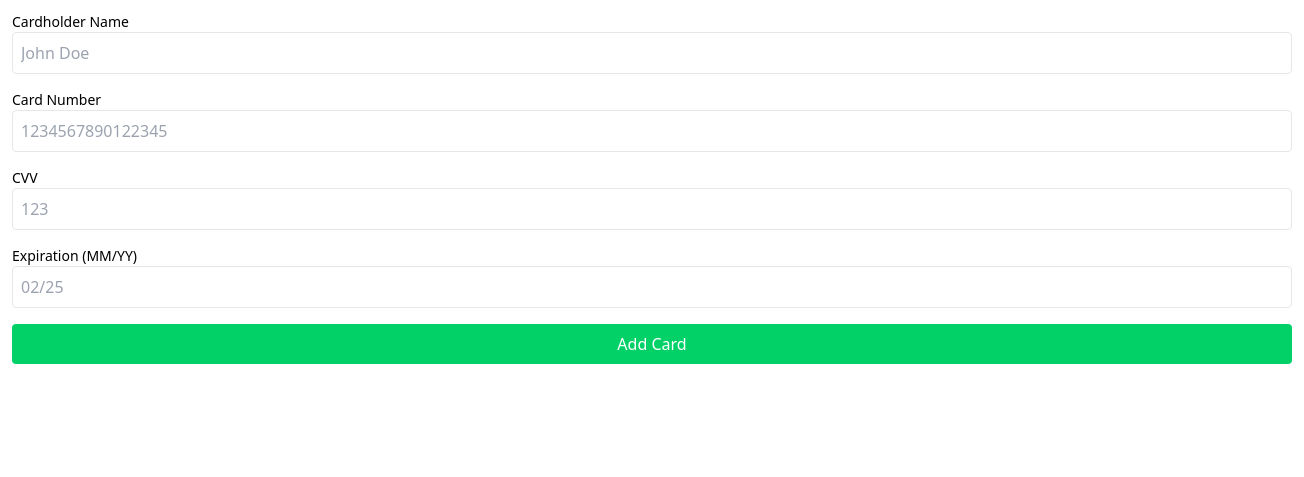
Scenario: AddCardForm component › shows validation errors on empty form submission
Click the button "Add Card" at [652, 344], box [12, 324, 1292, 364]
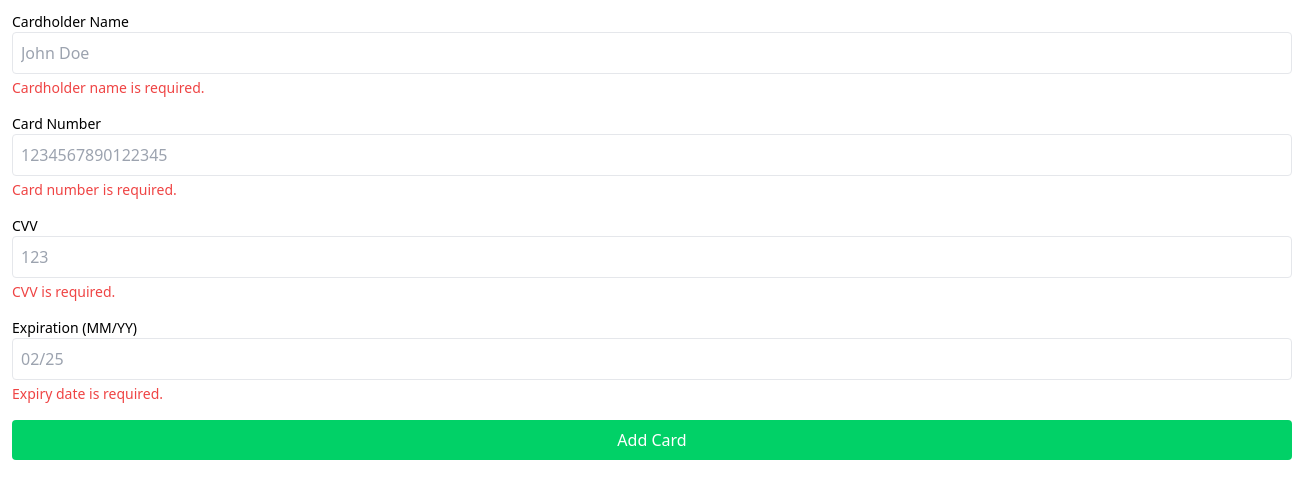
Check: the text "Cardholder name is required." is shown, box [12, 78, 205, 97]
Check: the text "Card number is required." is shown, box [12, 180, 177, 199]
Check: the text "CVV is required." is shown, box [12, 282, 115, 301]
